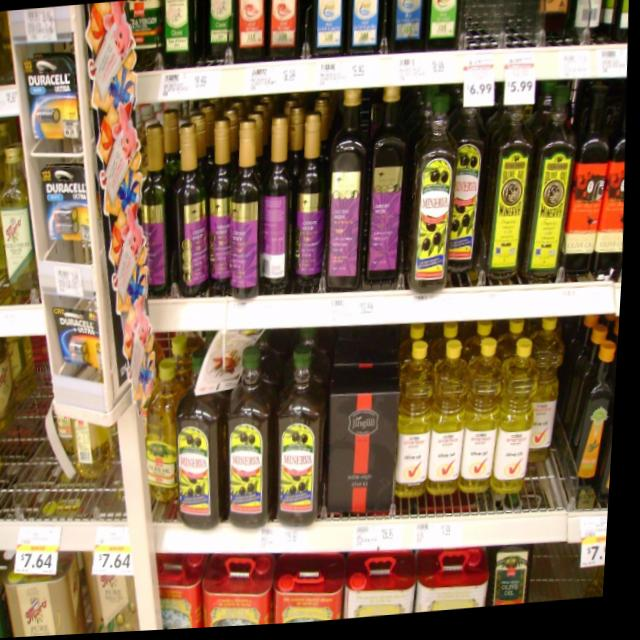q70: (270, 348, 334, 530), (226, 342, 284, 526), (172, 374, 234, 535)
